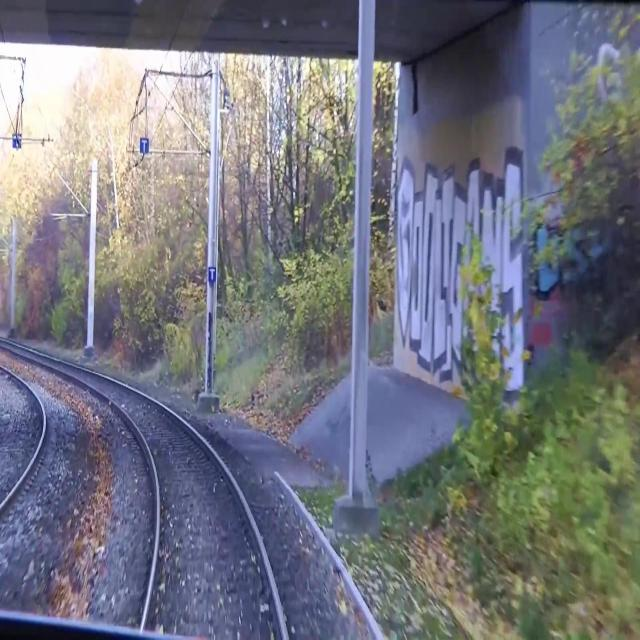rail-track: (0, 340, 283, 639)
